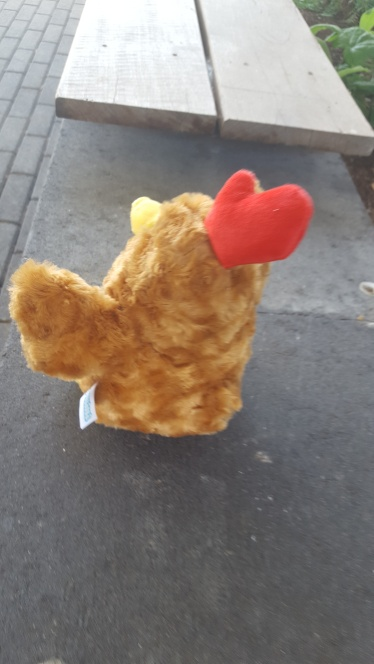chicken_back: (8, 170, 313, 438)
